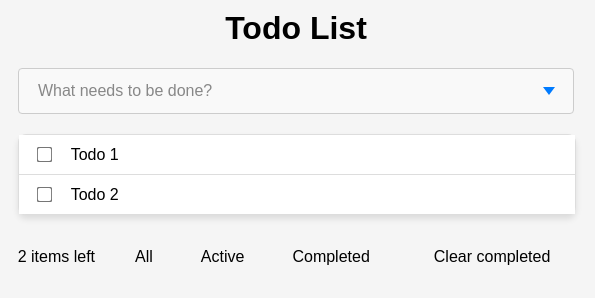
проверяем основные функции приложения › отображаемые списки задач переключаются при нажатии кнопок all, active, completed
The image size is (595, 298).
Click the checkbox next to "Todo 1".
click(44, 155)  # box [36,147,52,163]
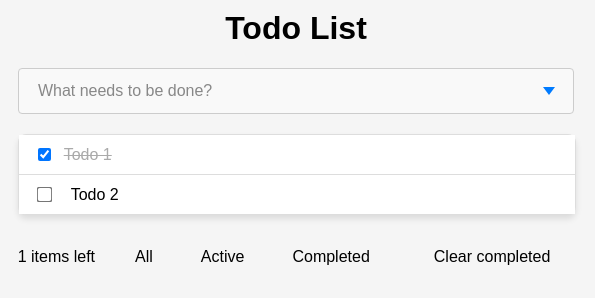
Click the button "Active".
click(223, 257)  # box [177,235,269,279]
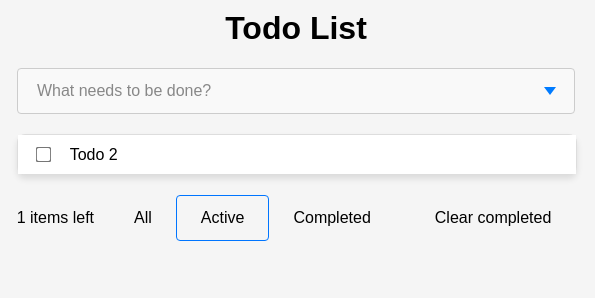
Expected: the list item "Todo 2" is shown, [18,135,576,174]
Result: the list item "Todo 1" is gone
Click the button "Completed".
click(332, 218)  # box [269,196,394,240]
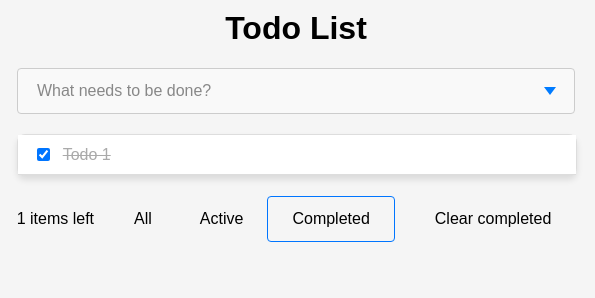
Result: the list item "Todo 1" is shown at [18,135,576,175]
Result: the list item "Todo 2" is gone
Click the button "All".
click(143, 219)  # box [110,197,176,241]
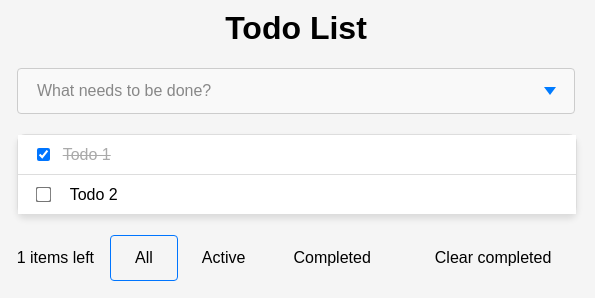
Result: the list item "Todo 1" is shown at [18,135,576,175]
Result: the list item "Todo 2" is shown at [18,175,576,214]
